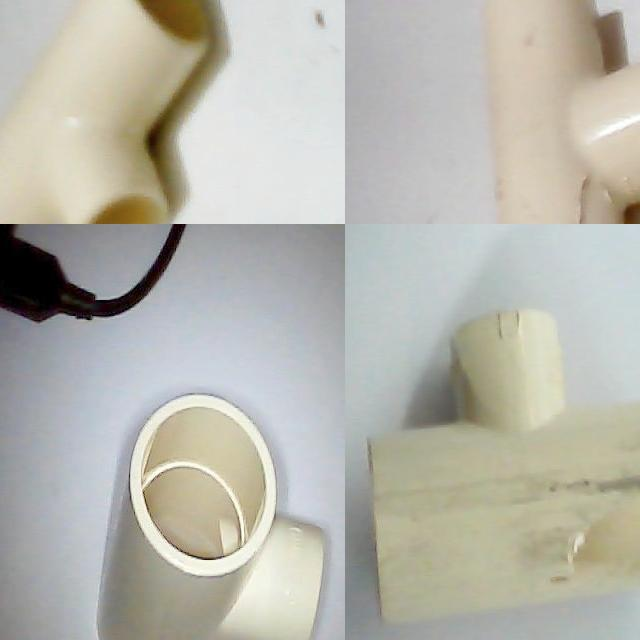Defective: (557, 475, 640, 599), (565, 164, 617, 224)
T Joint: (367, 310, 640, 628), (96, 393, 329, 640), (484, 0, 640, 224)
